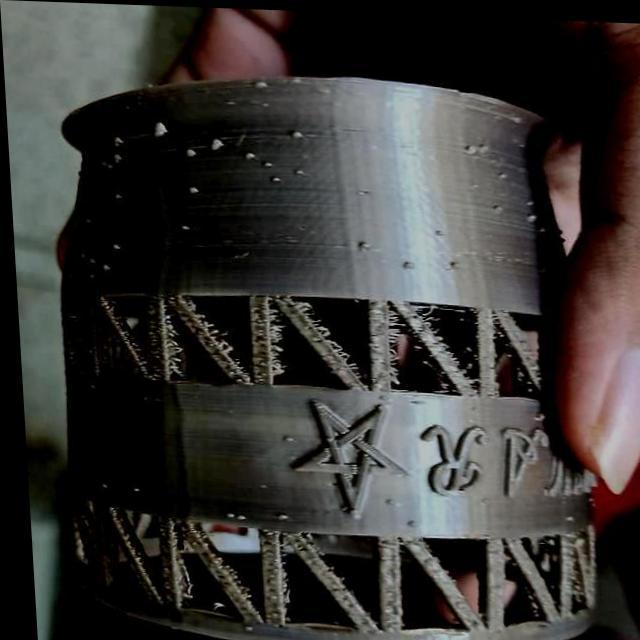zits: (145, 116, 168, 139), (104, 129, 130, 148), (460, 136, 480, 160), (106, 184, 125, 206), (205, 132, 228, 150), (88, 476, 111, 494), (266, 428, 291, 444), (398, 253, 419, 272), (248, 75, 268, 94), (286, 160, 308, 177), (486, 196, 506, 214), (283, 125, 304, 142), (184, 178, 202, 197), (266, 507, 288, 522), (351, 233, 370, 250), (176, 143, 199, 157), (119, 481, 140, 496), (106, 152, 123, 170), (76, 213, 96, 228), (104, 239, 126, 252), (174, 220, 192, 234), (518, 206, 536, 220), (258, 157, 277, 170), (235, 147, 254, 160), (266, 172, 282, 186), (229, 506, 243, 522), (216, 506, 231, 520), (96, 260, 111, 272)
